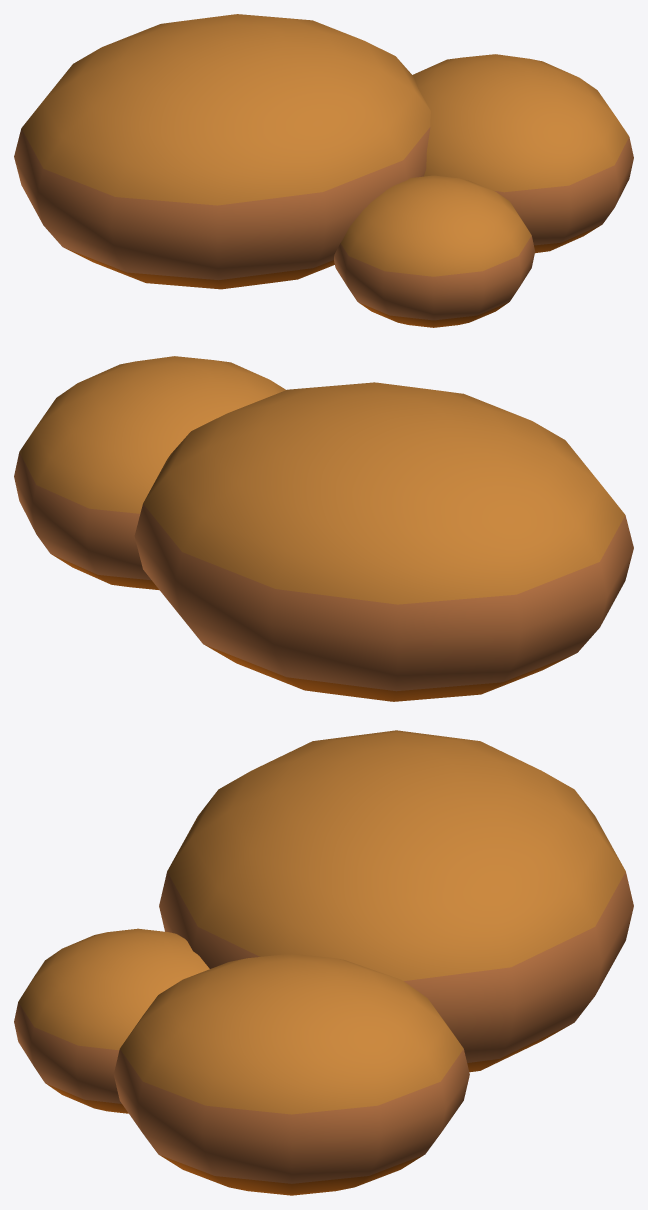
The model's file is bush-32_col.fbx.
The picture shows the model from 3 angles, top to bottom: view 1: azimuth 30°, elevation 25°; view 2: azimuth 150°, elevation 25°; view 3: azimuth 270°, elevation 25°; orthographic projection. The views are drawn at different scales.
Visible parts, largest first — view 1: bush-32.col; view 2: bush-32.col; view 3: bush-32.col.
Boxes of the visible parts, <box> form: bush-32.col: <box>14,14,633,327</box>; bush-32.col: <box>14,356,633,701</box>; bush-32.col: <box>14,730,633,1195</box>.
Bounding box in the file's own units: 0.4055 × 0.1595 × 0.3343.
Materials: 1 (1 with a texture image).
